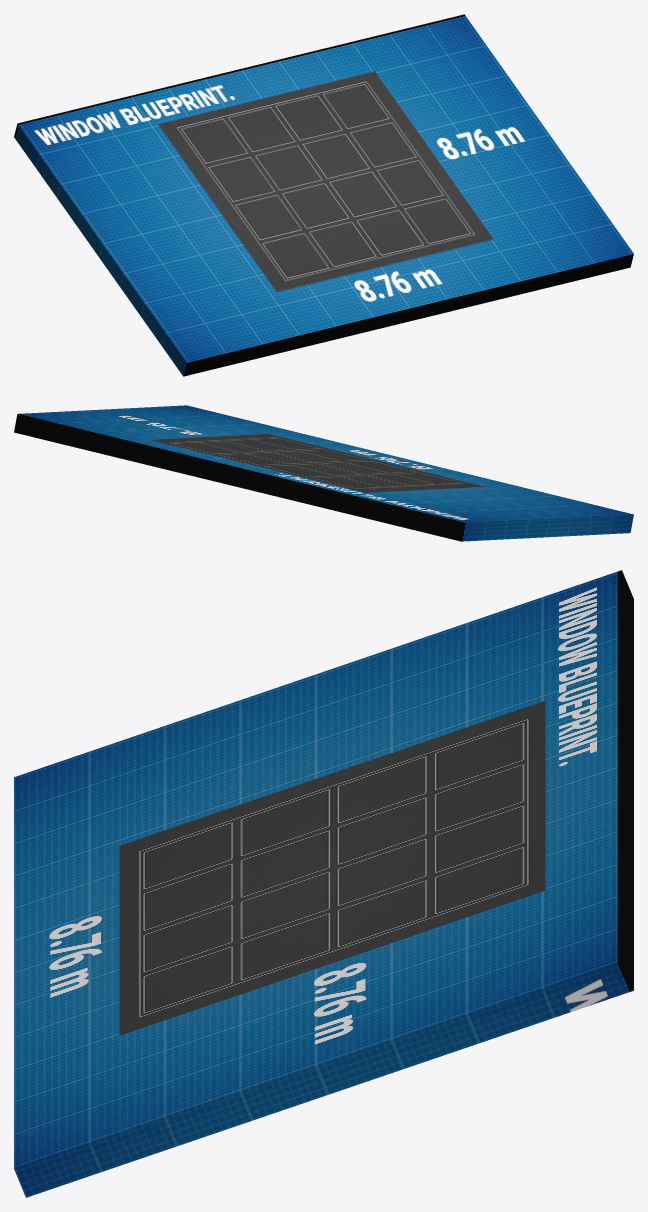
The model's file is WindowBlueprint.glb.
The picture shows the model from 3 angles, top to bottom: view 1: azimuth 30°, elevation 25°; view 2: azimuth 150°, elevation 25°; view 3: azimuth 270°, elevation 25°; orthographic projection. The views are drawn at different scales.
Parts seen in each view (by area): view 1: WindowBlueprint; view 2: WindowBlueprint; view 3: WindowBlueprint.
Part boxes in pixels (x1=…): WindowBlueprint: x1=14, y1=14, x2=633, y2=376; WindowBlueprint: x1=14, y1=405, x2=633, y2=541; WindowBlueprint: x1=14, y1=570, x2=633, y2=1197.
Size of the model in its own units: 2.59 by 0.7286 by 1.73.
Materials: 1 (1 with a texture image).
